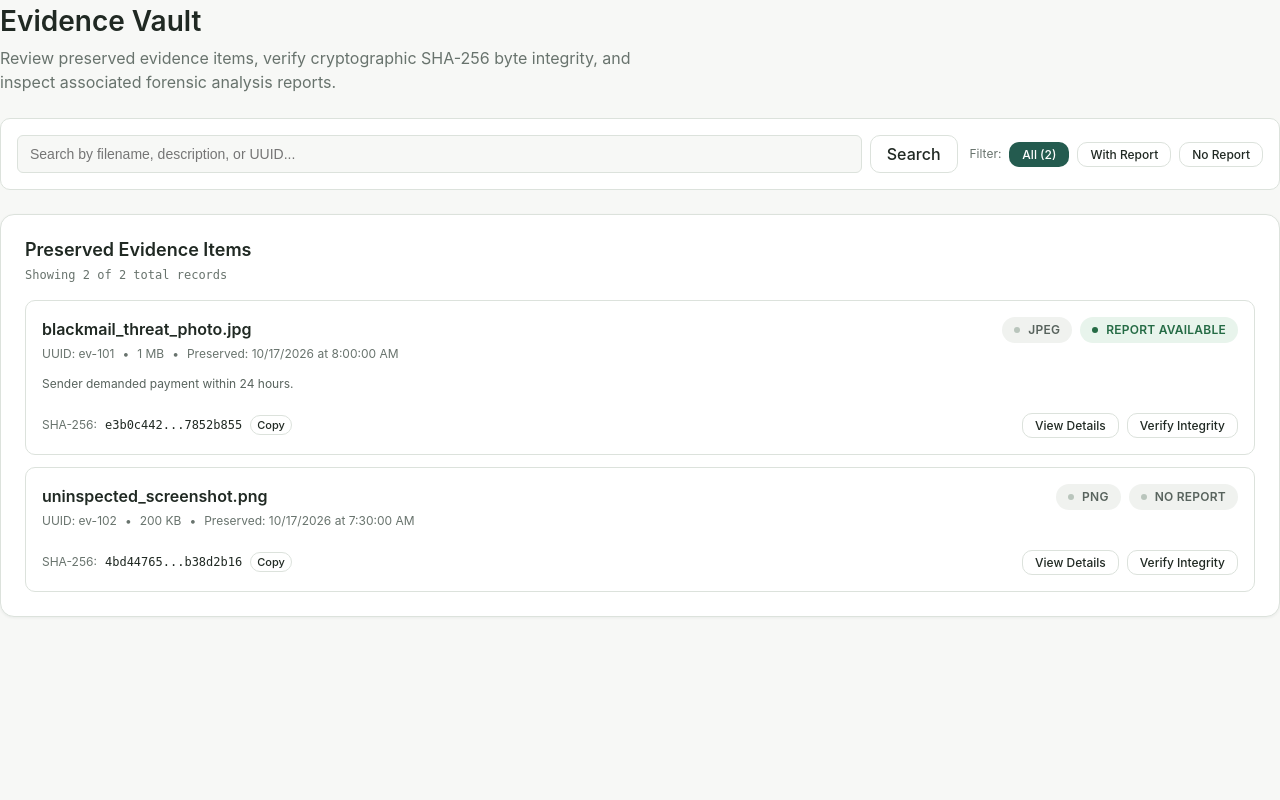
Test: EvidenceVault Feature Component › displays error in detail view when PDF export fails
The width and height of the screenshot is (1280, 800).
expect the heading "blackmail_threat_photo.jpg" is shown: met, box [42,318,252,338]
Click the button with aria-label "View details of blackmail_threat_photo.jpg": x=1070, y=425 [1022,412,1119,438]
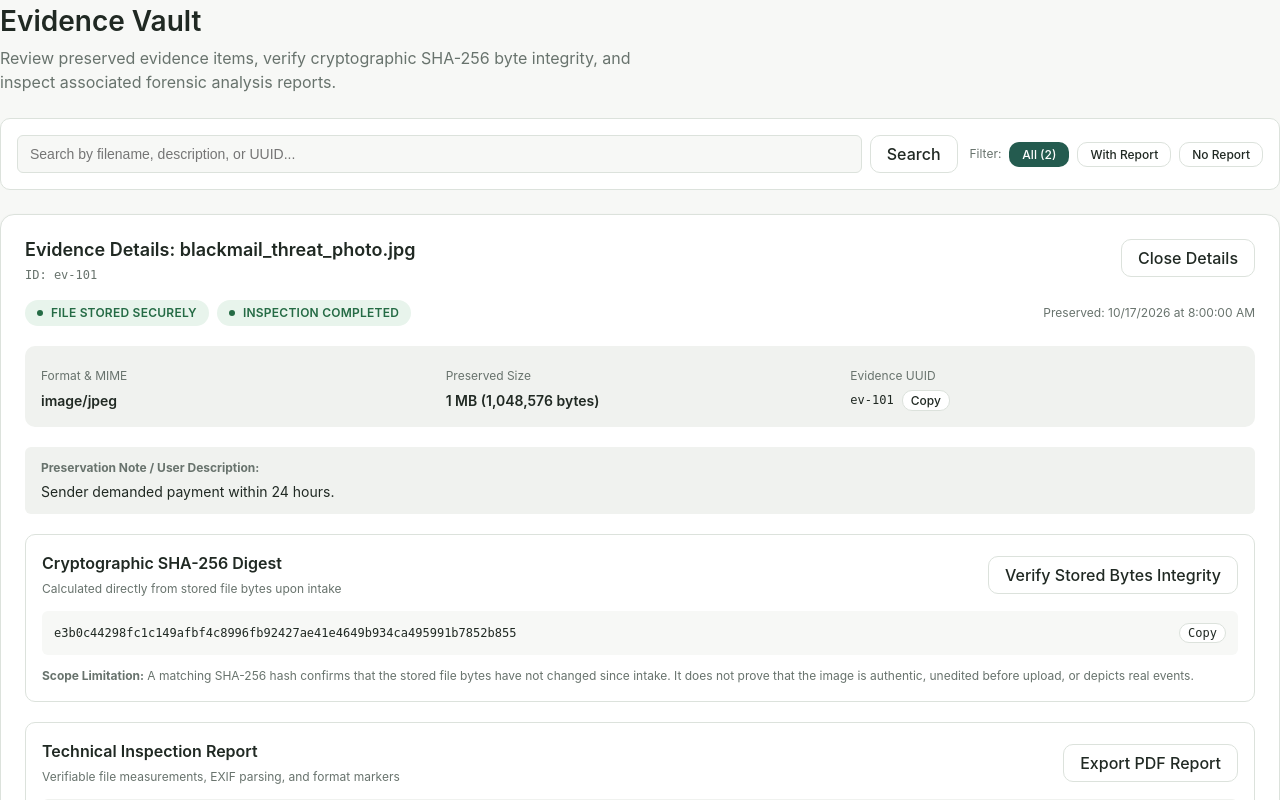
expect the heading "Evidence Details: blackmail_threat_photo.jpg" is shown: met, box [25,239,415,262]
Click the button "Export PDF Report": x=1151, y=762 [1063,744,1238,782]
(page scrolled)
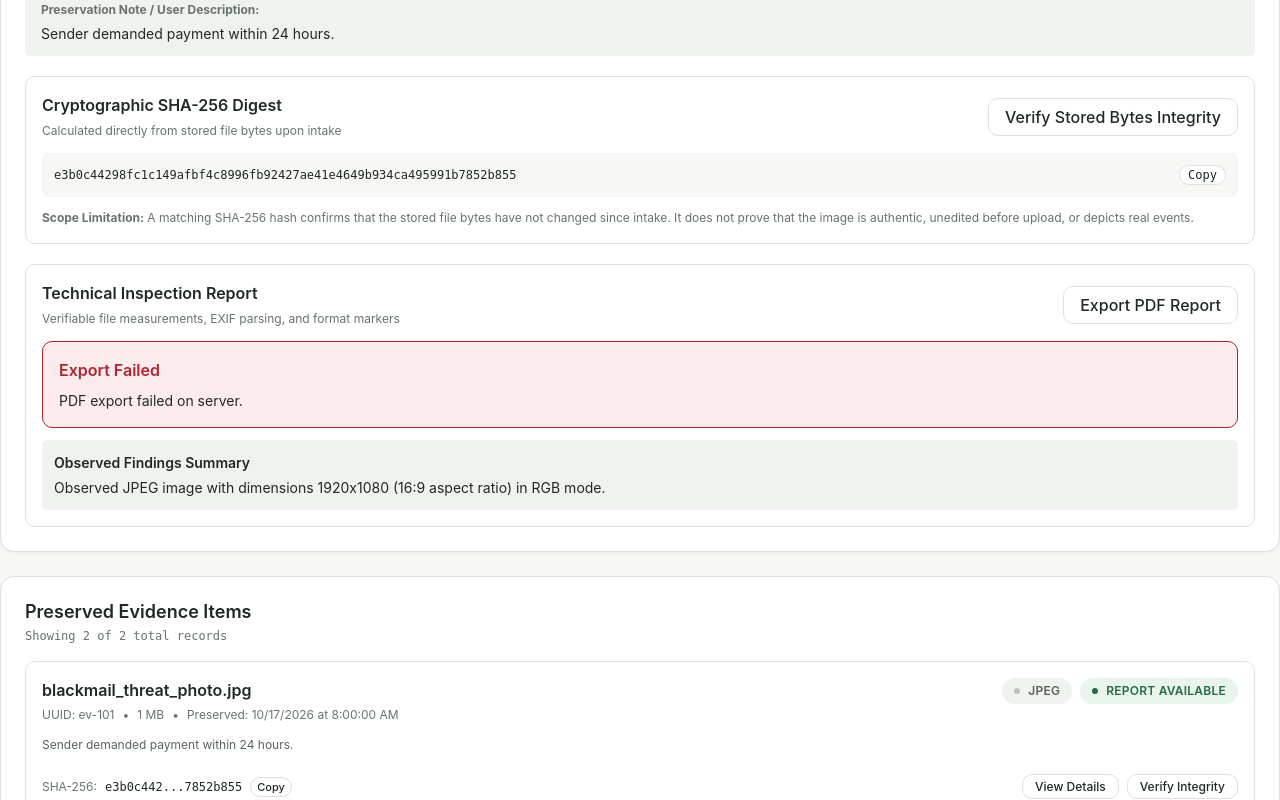
expect the text "Export Failed" is shown: met, box [59,360,160,380]
expect the text "PDF export failed on server." is shown: met, box [59,392,243,408]
